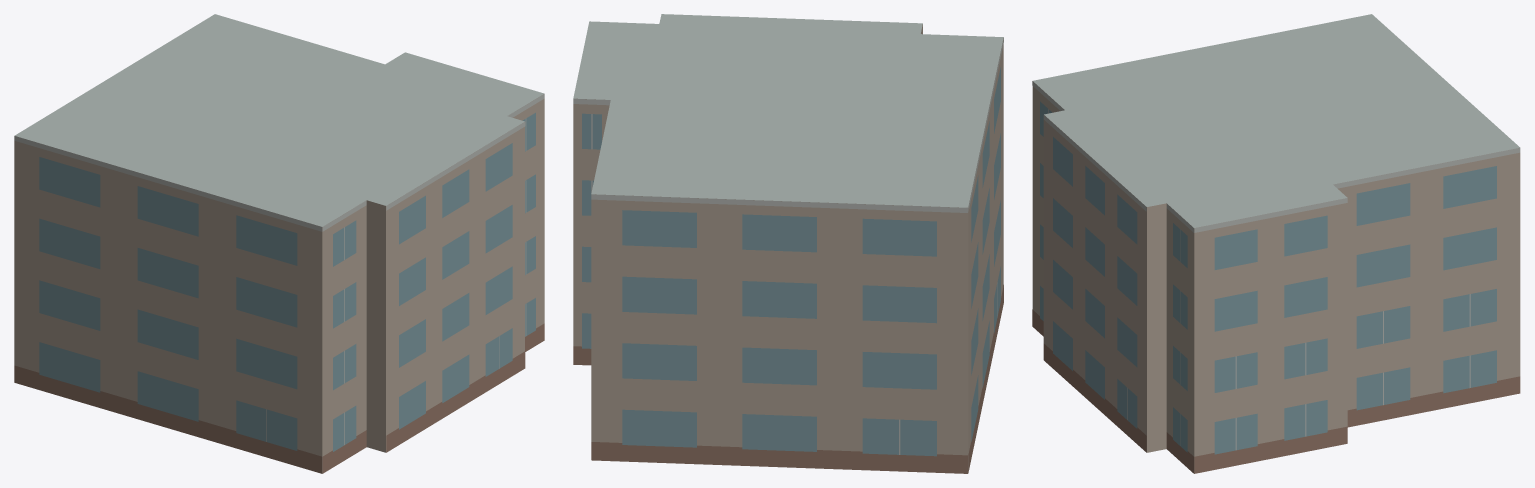
The model's file is survey-upis-32825885.glb.
3 renders of one model, left to right at view 1: azimuth 30°, elevation 25°; view 2: azimuth 150°, elevation 25°; view 3: azimuth 270°, elevation 25°, orthographic. The views are drawn at different scales.
Visible parts, largest first — view 1: survey-upis-32825885.tmp; view 2: survey-upis-32825885.tmp; view 3: survey-upis-32825885.tmp.
Part boxes in pixels (x1,y1,x2,y2): survey-upis-32825885.tmp: [14, 14, 544, 473]; survey-upis-32825885.tmp: [573, 14, 1003, 473]; survey-upis-32825885.tmp: [1032, 14, 1520, 473].
Bounding box in the file's own units: 22.81 × 12.2 × 21.96.
